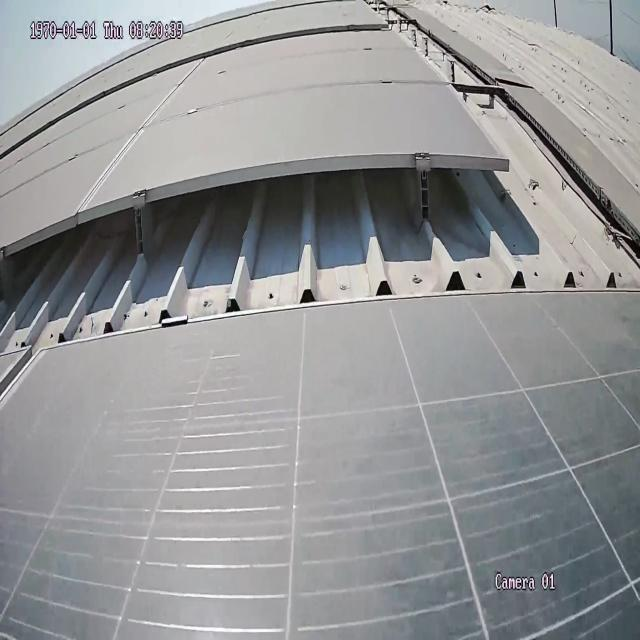interior panel: (66, 57, 212, 217), (0, 343, 57, 420)
outher panel: (0, 0, 640, 352)
